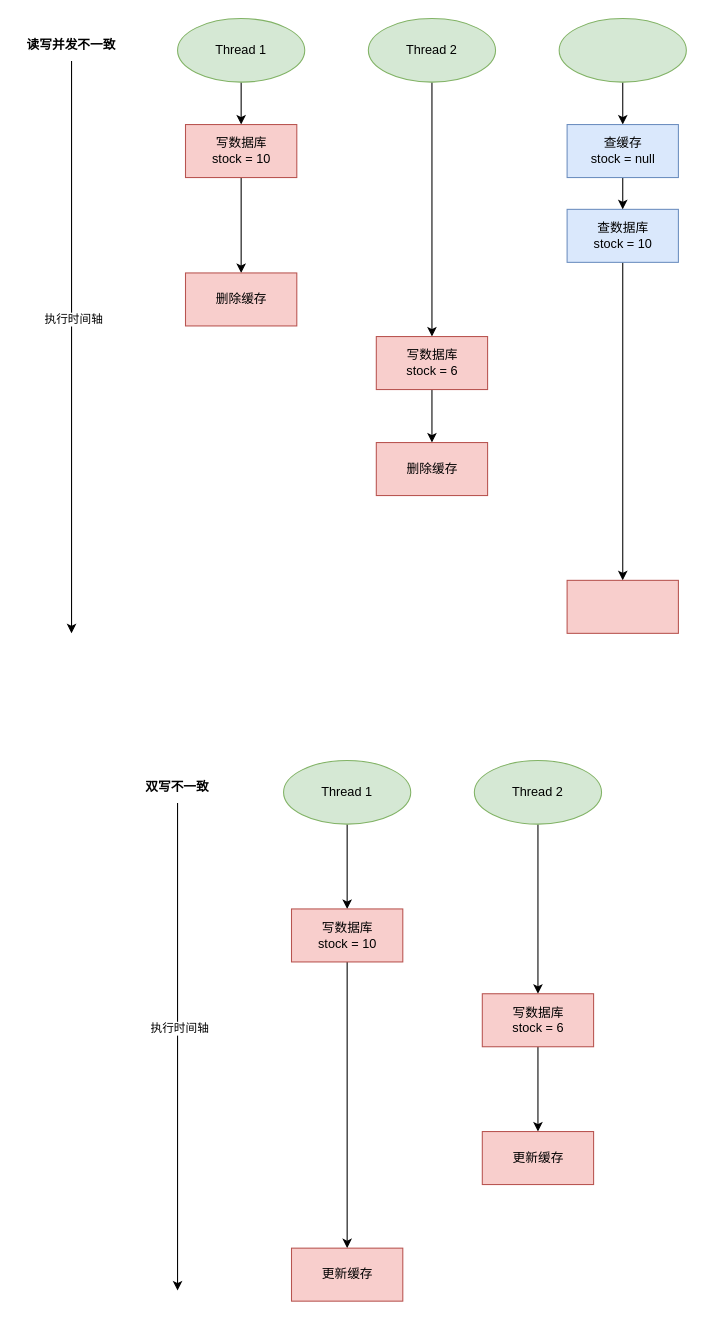
The diagram is 705 pixels wide and 1320 high, and some of its shapes have lost their labels. The centre of each missing label's shape, as x and y in pixels:
Thread 3: [622,49]
更新缓存 stock = 10: [622,606]
